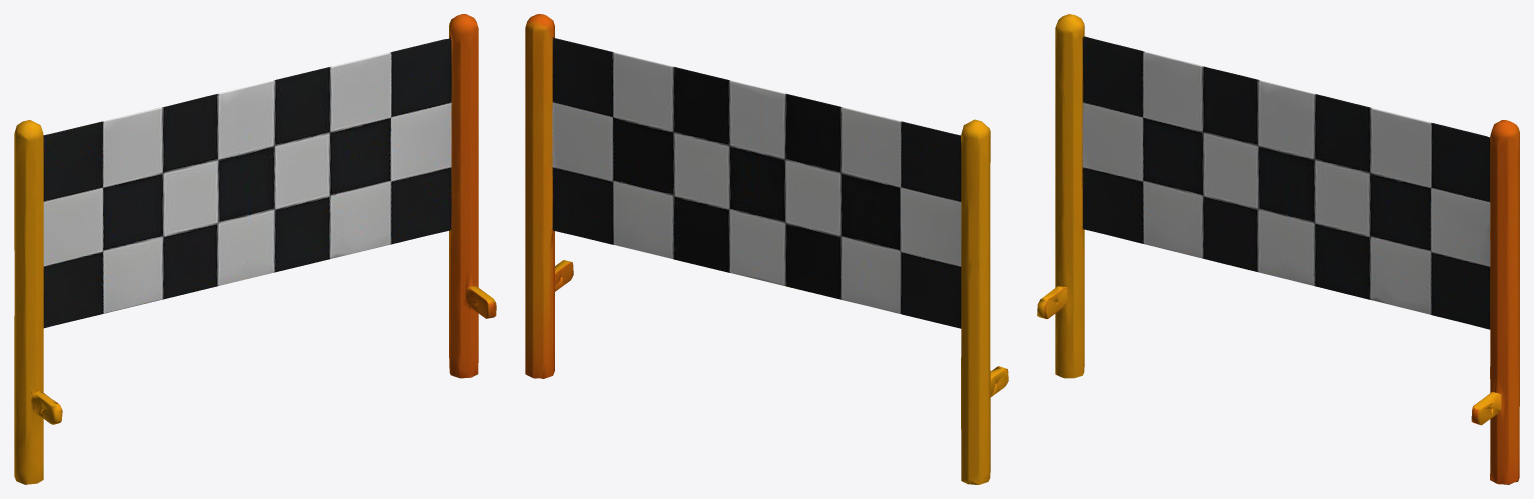
The model's file is finish.glb.
3 views of the same model, side by side, from view 1: azimuth 30°, elevation 25°; view 2: azimuth 150°, elevation 25°; view 3: azimuth 330°, elevation 25° (orthographic).
Parts seen in each view (by area): view 1: tripo_node_d7a6ea14-d5cc-424e-9551-7e2d3e417a40; view 2: tripo_node_d7a6ea14-d5cc-424e-9551-7e2d3e417a40; view 3: tripo_node_d7a6ea14-d5cc-424e-9551-7e2d3e417a40.
Boxes of the visible parts, bbox=[...] form: tripo_node_d7a6ea14-d5cc-424e-9551-7e2d3e417a40: bbox=[14, 14, 496, 484]; tripo_node_d7a6ea14-d5cc-424e-9551-7e2d3e417a40: bbox=[525, 14, 1008, 484]; tripo_node_d7a6ea14-d5cc-424e-9551-7e2d3e417a40: bbox=[1037, 14, 1519, 484].
Size of the model in its own units: 1 by 0.7413 by 0.1386.
1 material, 1 textured.
